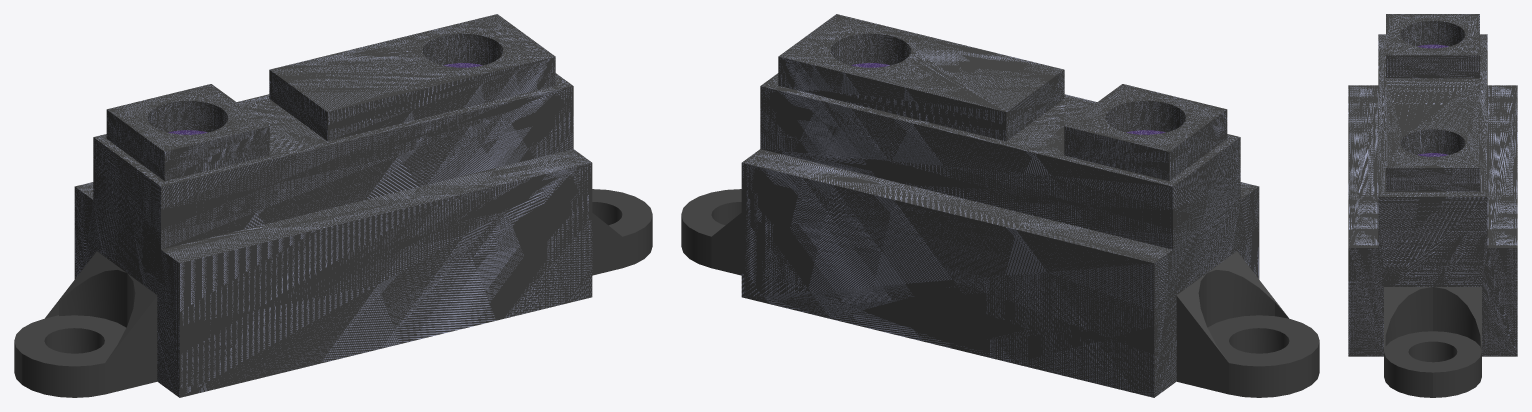
The picture shows the model from 3 angles, left to right: view 1: azimuth 30°, elevation 25°; view 2: azimuth 150°, elevation 25°; view 3: azimuth 270°, elevation 25°; orthographic projection. The views are drawn at different scales.
Parts seen in each view (by area): view 1: SketchUp (×5), Tab (×3); view 2: SketchUp (×5), Tab (×3); view 3: SketchUp (×5), Tab (×2).
Part boxes in pixels (x1=…): SketchUp (×5): x1=74, y1=14, x2=592, y2=397; Tab (×3): x1=14, y1=189, x2=652, y2=397; SketchUp (×5): x1=741, y1=14, x2=1259, y2=397; Tab (×3): x1=681, y1=189, x2=1319, y2=397; SketchUp (×5): x1=1348, y1=14, x2=1517, y2=356; Tab (×2): x1=1384, y1=287, x2=1481, y2=397.
Bounding box in the file's own units: 1.75 × 0.5118 × 0.6102.
